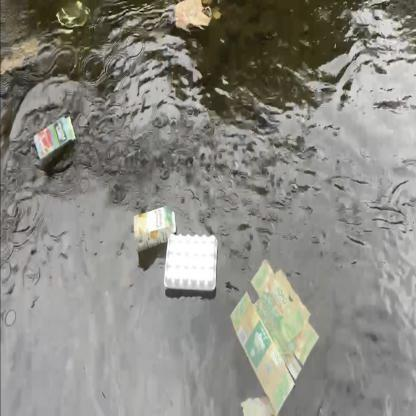Metal: (52, 0, 93, 36)
Plastic: (161, 230, 221, 292)
Trash: (170, 0, 219, 34)
